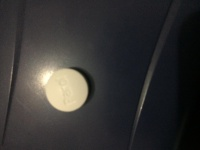Parol: (44, 68, 91, 113)
